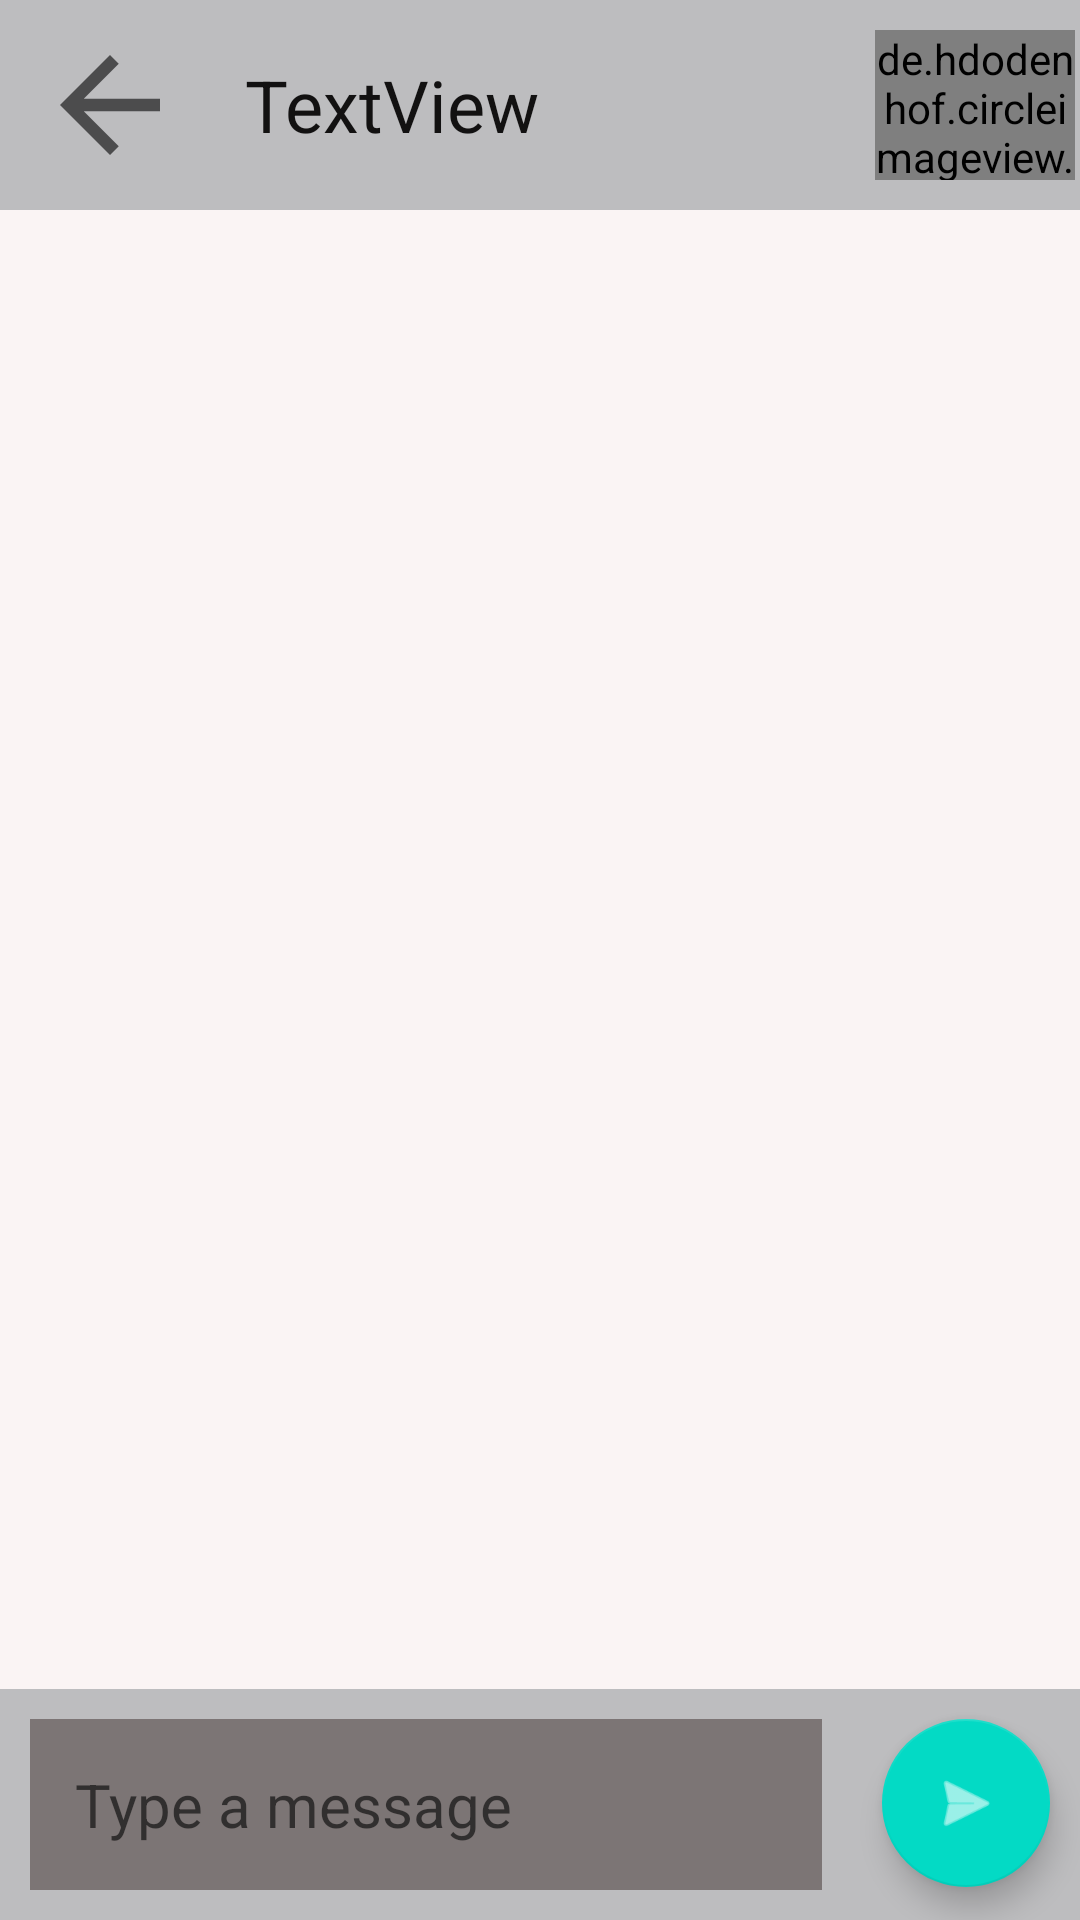

Icons on this 1080x1920 Android screen, each with the point to tap as point (x, y):
send: point (966, 1803)
